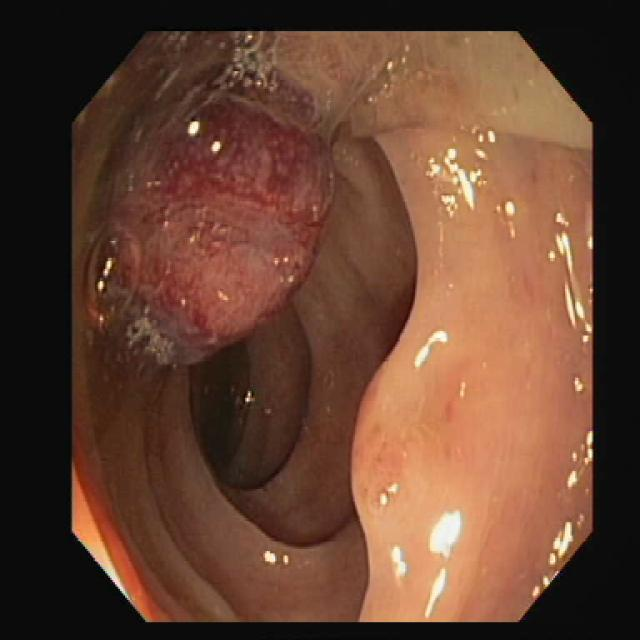tumor: (120, 98, 328, 362), (353, 318, 468, 607)
